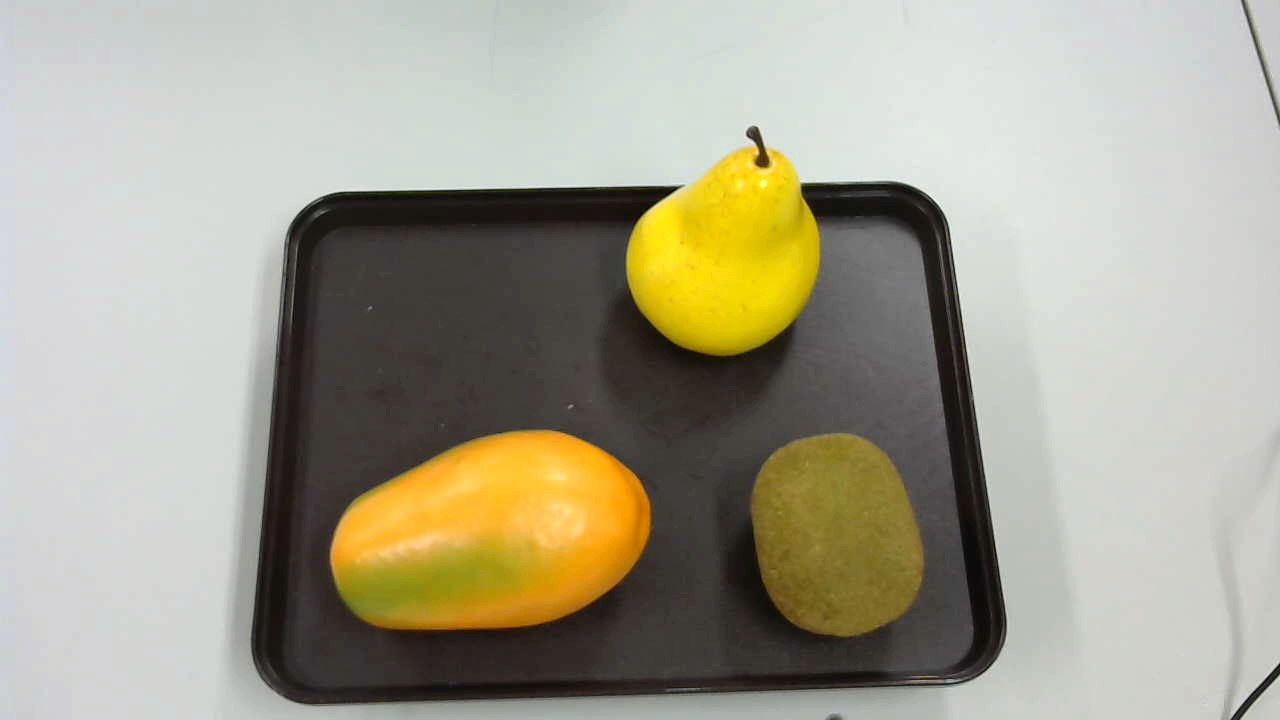kiwi fruit: (753, 433, 923, 640)
papya: (327, 426, 656, 633)
yellow pear: (625, 126, 827, 354)
